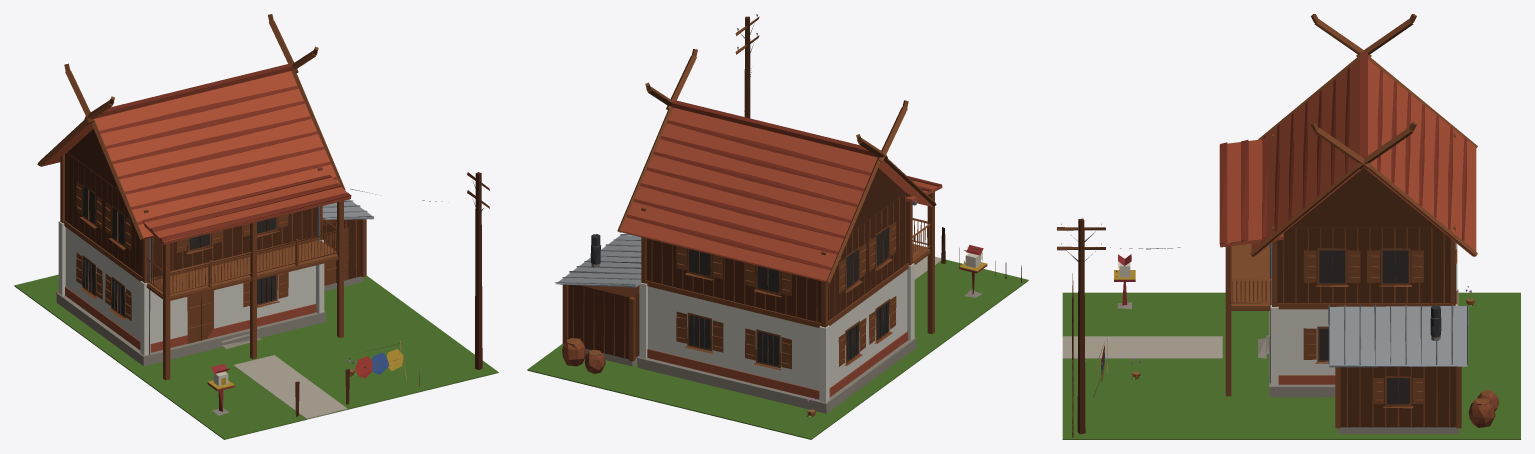
File: house12_2.glb
The picture shows the model from 3 angles, left to right: view 1: azimuth 30°, elevation 25°; view 2: azimuth 150°, elevation 25°; view 3: azimuth 270°, elevation 25°; orthographic projection. The views are drawn at different scales.
Parts seen in each view (by area): view 1: body, windows; view 2: body, windows; view 3: body, windows.
Part boxes in pixels (x1,y1,x2,y2): body: (14, 14, 498, 439); windows: (83, 186, 276, 315); body: (527, 14, 1028, 439); windows: (689, 227, 889, 365); body: (1057, 14, 1520, 439); windows: (1319, 250, 1409, 404).
Bounding box in the file's own units: 12 × 10.97 × 16.1.
